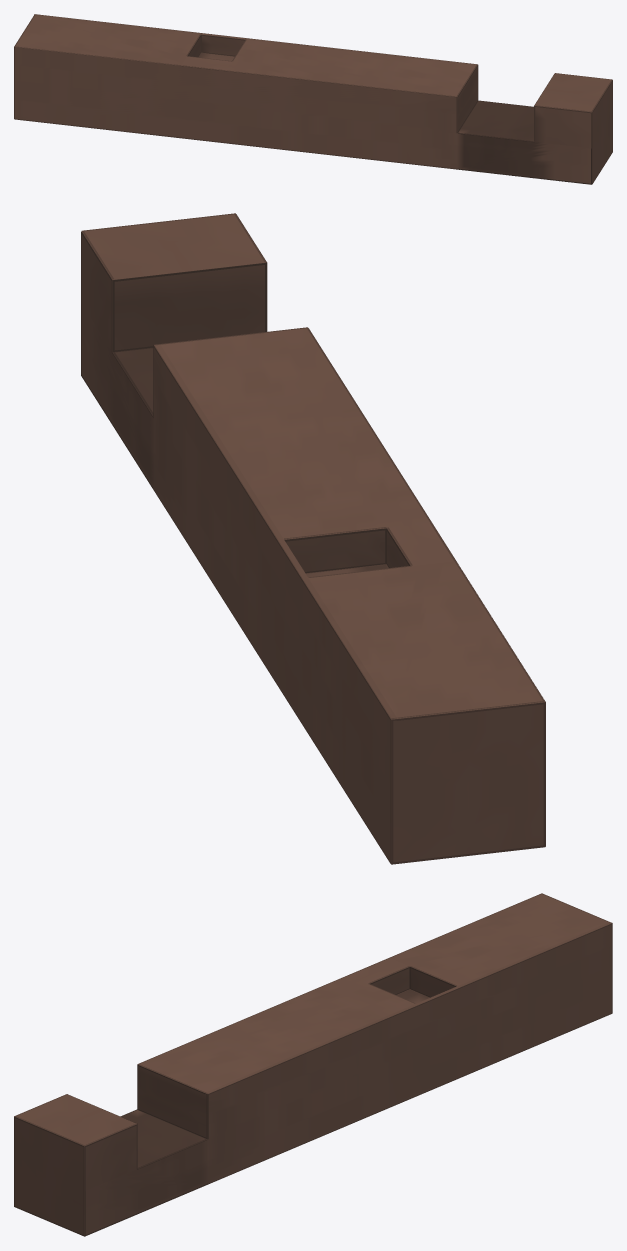
3 renders of one model, top to bottom at view 1: azimuth 30°, elevation 25°; view 2: azimuth 150°, elevation 25°; view 3: azimuth 270°, elevation 25°, orthographic. The views are drawn at different scales.
Visible parts, largest first — view 1: part-a; view 2: part-a; view 3: part-a.
Part boxes in pixels (bbox=[...]): part-a: bbox=[14, 14, 612, 184]; part-a: bbox=[81, 213, 545, 864]; part-a: bbox=[14, 893, 612, 1236].
Bounding box in the file's own units: 0.7219 × 0.1208 × 0.7225.
